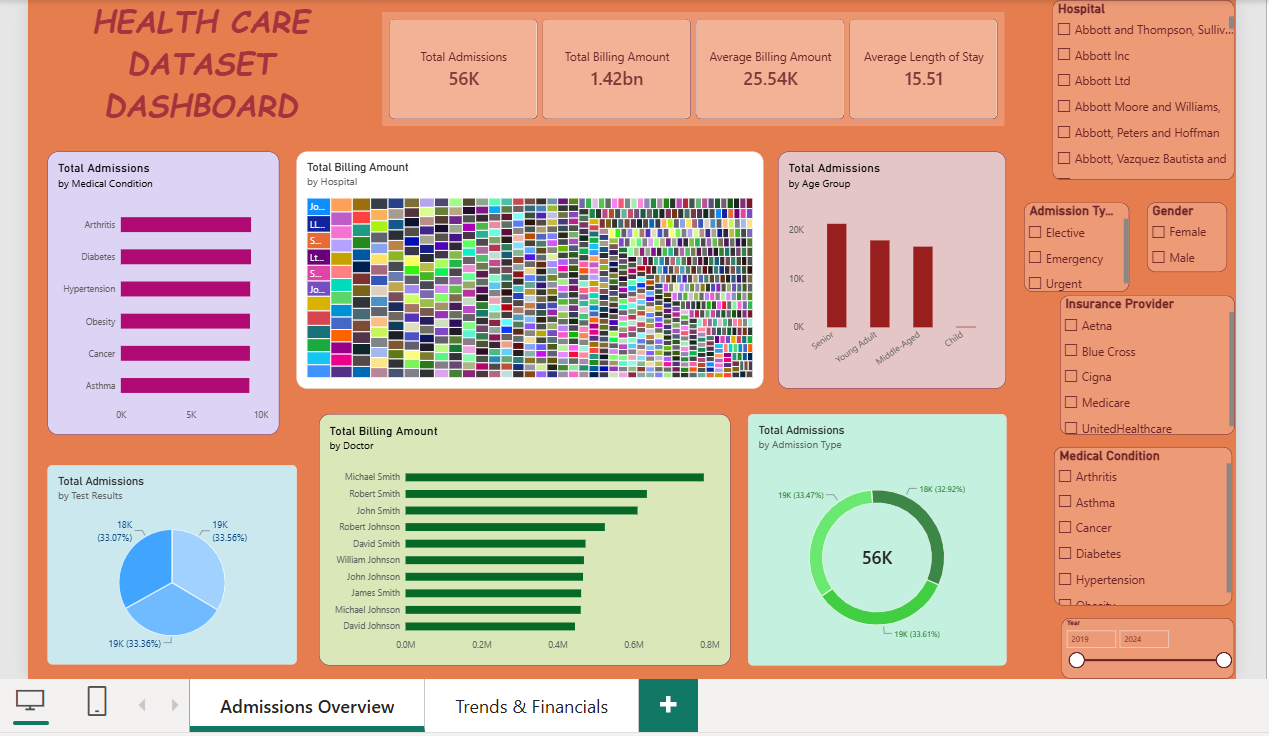

The dashboard page shown, as its layout file describes it:
{"tool":"powerbi","page":{"name":"Admissions Overview","canvas":[1920,1080],"ordinal":0},"visuals":[{"type":"slicer","fields":{"Values":["Dim Hospital.Hospital"]},"box":[1629.9,0,289.1,286.3],"z":0},{"type":"slicer","fields":{"Values":["Dim Condition.Medical Condition"]},"box":[1632.8,711.5,283.5,252.3],"z":1000},{"type":"slicer","fields":{"Values":["Fact Admissions.Insurance Provider"]},"box":[1641.3,470.6,277.8,221.1],"z":2000},{"type":"slicer","fields":{"Values":["Fact Admissions.Admission Type"]},"box":[1584.6,323.2,167.2,141.7],"z":3000},{"type":"slicer","fields":{"Values":["Fact Admissions.Gender"]},"box":[1780.2,323.2,127.6,110.6],"z":4000},{"type":"slicer","fields":{"Values":["Dim Calendar.Year"]},"box":[1644.1,983.6,275,96.4],"z":5000},{"type":"cardVisual","fields":{"Data":["Fact Admissions.Total Admissions","Fact Admissions.Total Billing Amount","Fact Admissions.Average Billing Amount","Fact Admissions.Average Length of Stay"]},"box":[564.1,19.8,992.1,181.4],"z":6000},{"type":"textbox","box":[31.2,0,487.6,201.3],"z":7000},{"type":"clusteredBarChart","fields":{"Category":["Fact Admissions.Medical Condition"],"Y":["Fact Admissions.Total Admissions"]},"box":[31.2,240.9,368.5,450.7],"z":8000},{"type":"treemap","fields":{"Group":["Dim Hospital.Hospital"],"Values":["Fact Admissions.Total Billing Amount"]},"box":[428,240.9,742.7,377],"z":9000},{"type":"donutChart","fields":{"Category":["Fact Admissions.Admission Type"],"Y":["Fact Admissions.Total Admissions"]},"box":[1145.2,657.6,411,399.7],"z":10000},{"type":"pieChart","fields":{"Category":["Fact Admissions.Test Results"],"Y":["Fact Admissions.Total Admissions"]},"box":[31.2,739.8,396.9,317.5],"z":11000},{"type":"clusteredBarChart","fields":{"Category":["Dim Doctor.Doctor"],"Y":["Fact Admissions.Total Billing Amount"]},"box":[462.1,657.6,654.8,399.7],"z":12000},{"type":"clusteredColumnChart","fields":{"Category":["Fact Admissions.Age Group"],"Y":["Fact Admissions.Total Admissions"]},"box":[1193.4,240.9,362.8,377],"z":13000}]}

Visuals, with their boxes on the page's 1920x1080 design canvas (x1, y1, x2, y2). These are canvas units, not pixel positions in the 1269x736 screenshot, which may show the page scaled, cropped or inside an application window:
slicer - Dim Hospital.Hospital: <bbox>1630, 0, 1919, 286</bbox>
slicer - Dim Condition.Medical Condition: <bbox>1633, 712, 1916, 964</bbox>
slicer - Fact Admissions.Insurance Provider: <bbox>1641, 471, 1919, 692</bbox>
slicer - Fact Admissions.Admission Type: <bbox>1585, 323, 1752, 465</bbox>
slicer - Fact Admissions.Gender: <bbox>1780, 323, 1908, 434</bbox>
slicer - Dim Calendar.Year: <bbox>1644, 984, 1919, 1080</bbox>
cardVisual - Fact Admissions.Total Admissions x Fact Admissions.Total Billing Amount: <bbox>564, 20, 1556, 201</bbox>
textbox: <bbox>31, 0, 519, 201</bbox>
clusteredBarChart - Fact Admissions.Medical Condition x Fact Admissions.Total Admissions: <bbox>31, 241, 400, 692</bbox>
treemap - Dim Hospital.Hospital x Fact Admissions.Total Billing Amount: <bbox>428, 241, 1171, 618</bbox>
donutChart - Fact Admissions.Admission Type x Fact Admissions.Total Admissions: <bbox>1145, 658, 1556, 1057</bbox>
pieChart - Fact Admissions.Test Results x Fact Admissions.Total Admissions: <bbox>31, 740, 428, 1057</bbox>
clusteredBarChart - Dim Doctor.Doctor x Fact Admissions.Total Billing Amount: <bbox>462, 658, 1117, 1057</bbox>
clusteredColumnChart - Fact Admissions.Age Group x Fact Admissions.Total Admissions: <bbox>1193, 241, 1556, 618</bbox>
